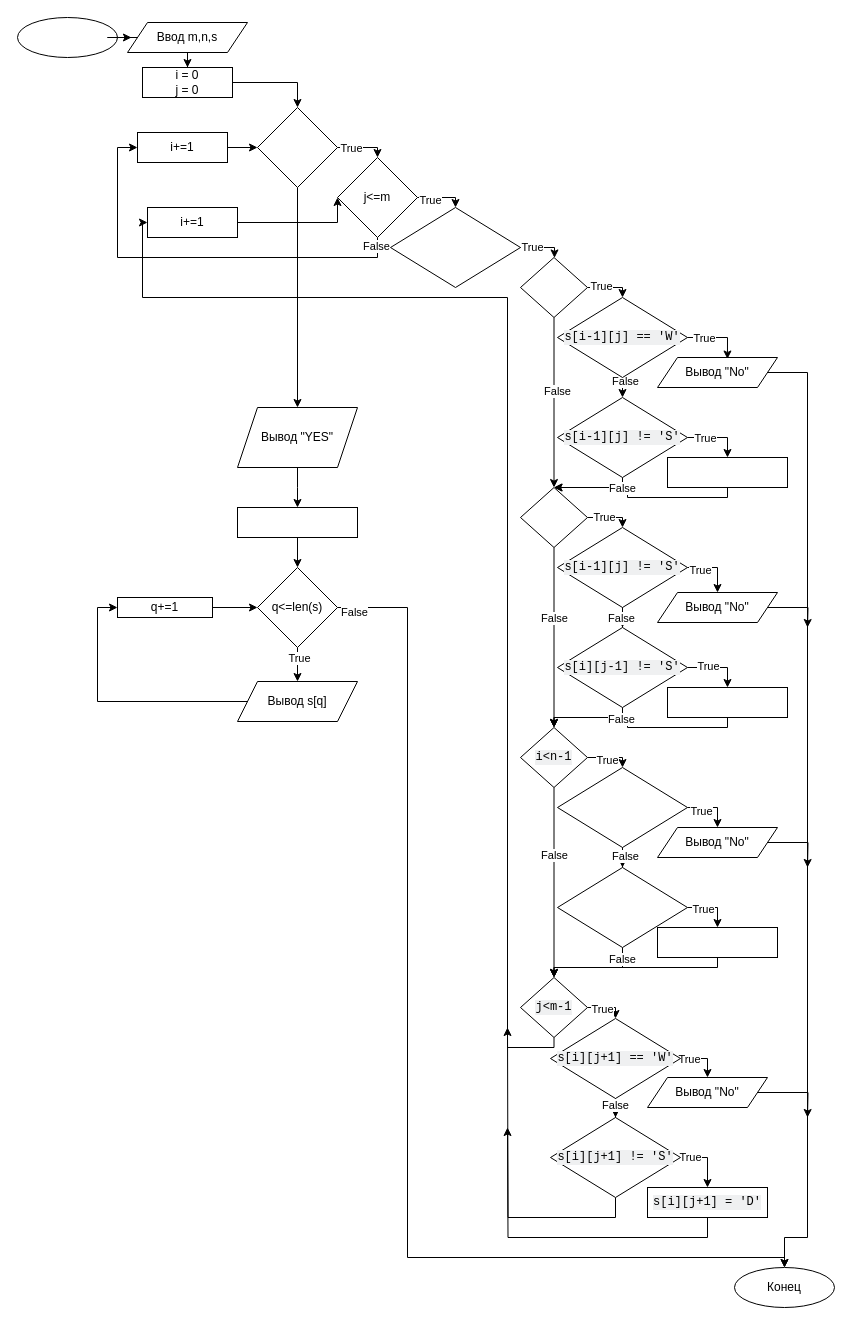
Some shapes in this 852 by 1325 pixel diagram are drawn without their labels. The shapes that lost their labels are listed below. From the top down, each one's box as (x1, y1, x2, y2) in pixels, then its label:
(16, 16, 118, 58): Начало
(256, 106, 338, 188): i<=n
(390, 206, 520, 288): s [ i ][ j ] == 'S'
(520, 256, 588, 318): i>0
(666, 456, 788, 488): s [ i - 1 ][ j ] = 'D'
(236, 506, 358, 538): q = 0
(520, 486, 588, 548): j>0
(666, 686, 788, 718): s [ i ][ j - 1 ] = 'D'
(556, 766, 688, 848): s [ i + 1 ][ j ] == 'W'
(556, 866, 688, 948): s [ i + 1 ][ j ] != 'S'
(656, 926, 778, 958): s [ i + 1 ][ j ] = 'D'
